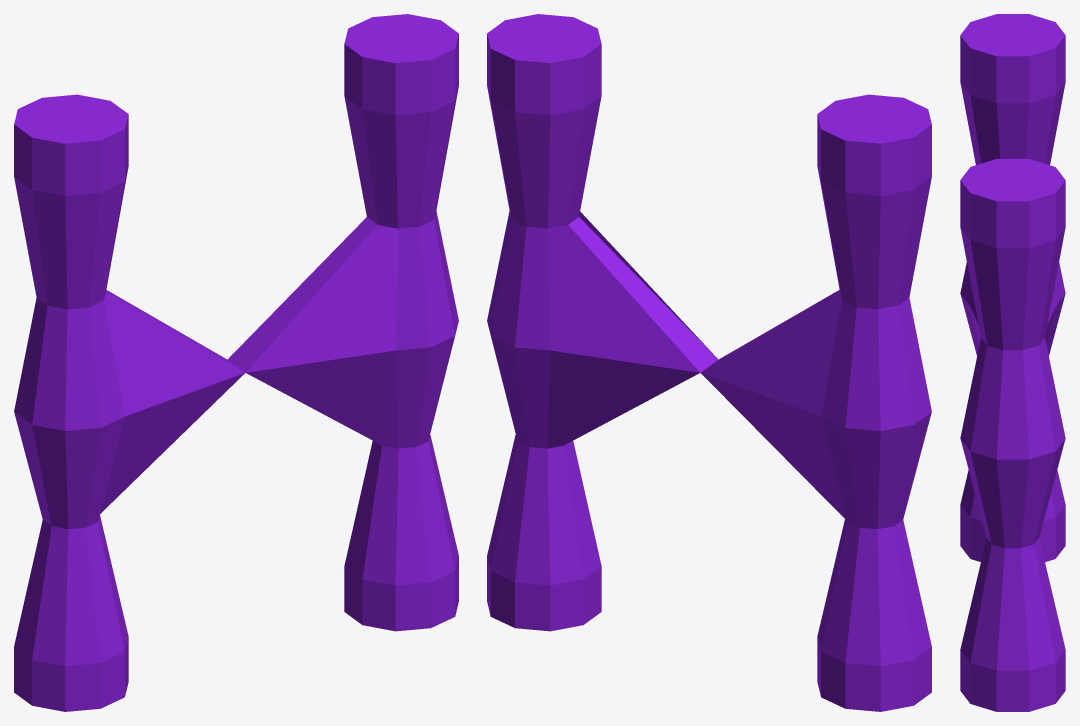
The model's file is Catamaran.fbx.
3 renders of one model, left to right at view 1: azimuth 30°, elevation 25°; view 2: azimuth 150°, elevation 25°; view 3: azimuth 270°, elevation 25°, orthographic. The views are drawn at different scales.
Parts seen in each view (by area): view 1: Cylinder; view 2: Cylinder; view 3: Cylinder.
Part boxes in pixels (x1,y1,x2,y2): Cylinder: (14,14,458,711); Cylinder: (487,14,931,711); Cylinder: (960,14,1065,711).
Size of the model in its own units: 335 by 426 by 79.52.
